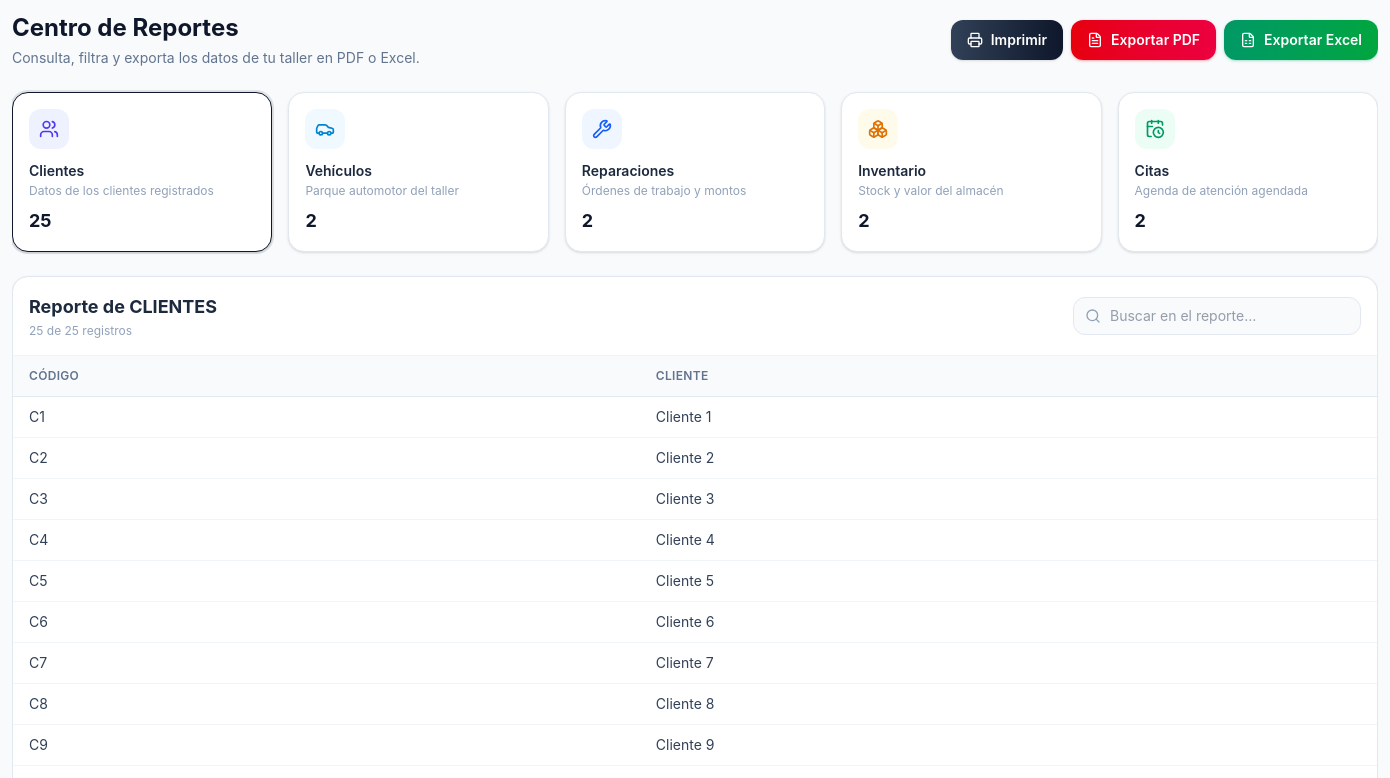
Reports (Centro de Reportes) › filtra las filas con la búsqueda
Check: the text "C1" is shown, box x1=13 y1=396 x2=640 y2=438
Type "Cliente 25" into the field with placeholder "Buscar en el reporte…" at (1217, 316), box x1=1073 y1=297 x2=1361 y2=335
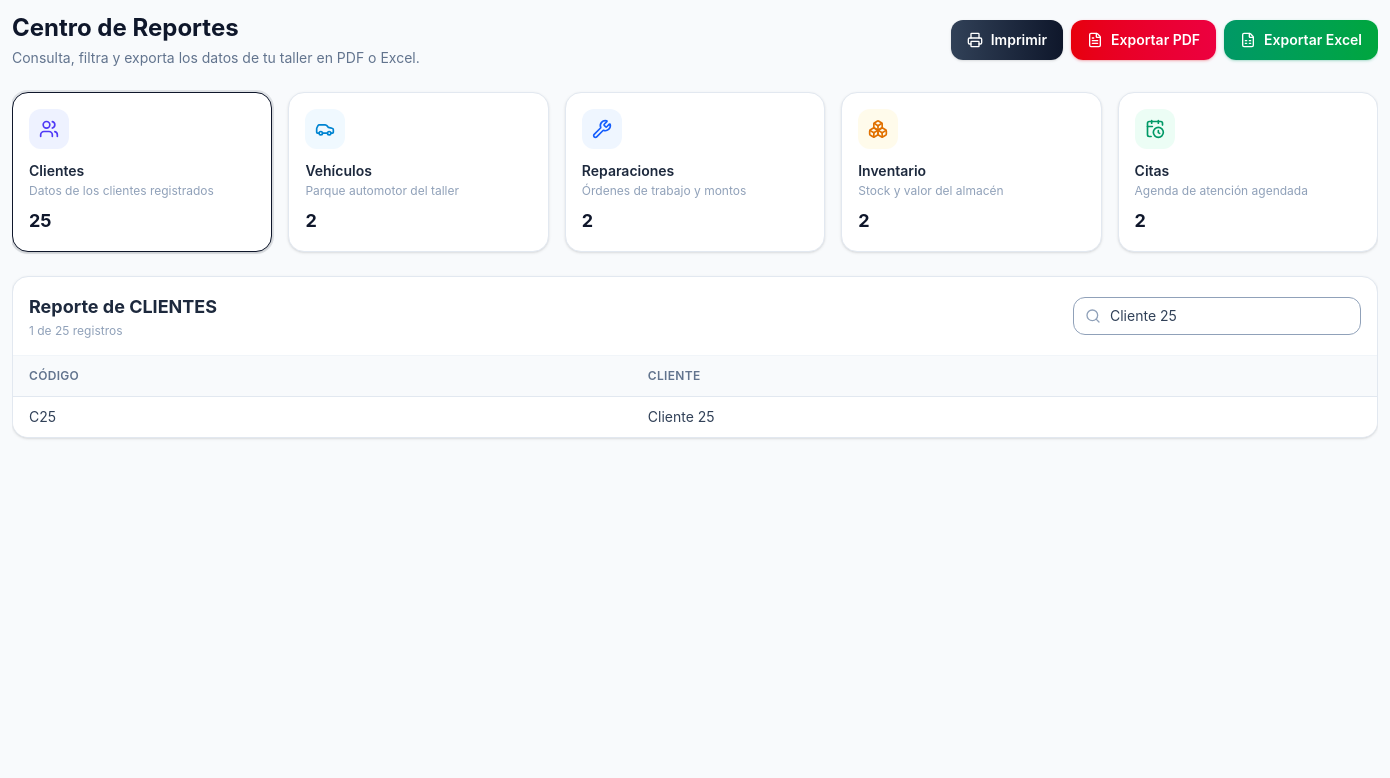
Check: the text "1 de 25 registros" is shown, box x1=29 y1=323 x2=122 y2=338
Check: the text "C25" is shown, box x1=13 y1=396 x2=632 y2=437
Check: the text "C1" is gone
